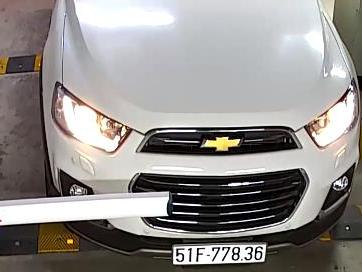number: (172, 243, 265, 266)
